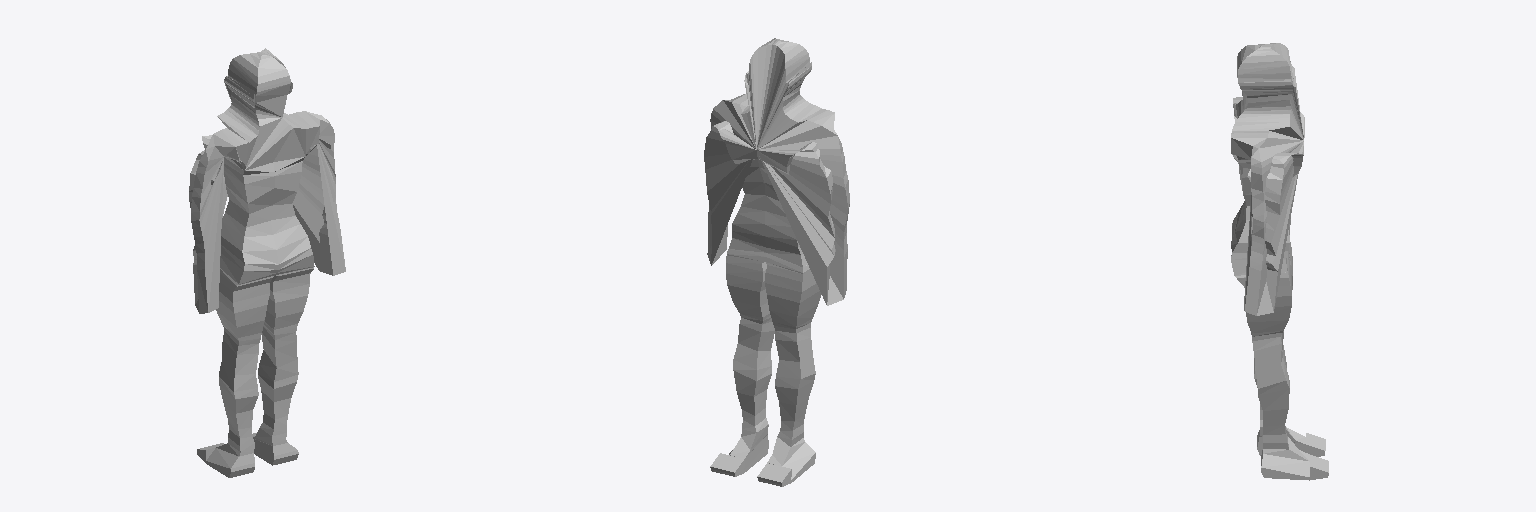
Rendered from woman_000043.obj.
3 views of the same model, side by side, from view 1: azimuth 30°, elevation 25°; view 2: azimuth 150°, elevation 25°; view 3: azimuth 270°, elevation 25° (orthographic).
Visible parts, largest first — view 1: Cube_Cube.001; view 2: Cube_Cube.001; view 3: Cube_Cube.001.
Boxes of the visible parts, x1,y1,x2,y2 form: Cube_Cube.001: [189, 48, 345, 477]; Cube_Cube.001: [704, 38, 849, 486]; Cube_Cube.001: [1231, 43, 1328, 480].
Bounding box in the file's own units: 3.62 × 9.98 × 2.13.